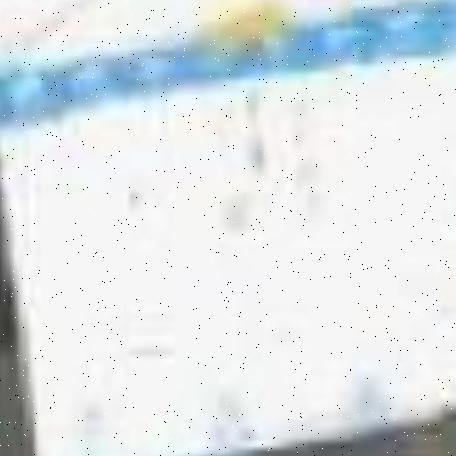Amazon: (41, 0, 456, 449)
